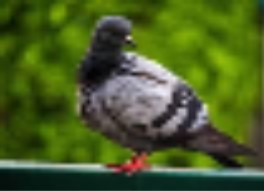pigeon: (73, 13, 260, 178)
